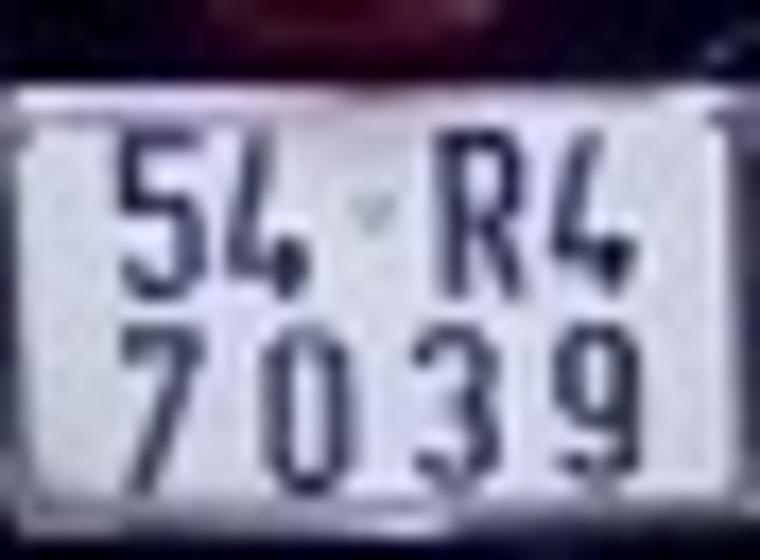0: (258, 324, 353, 496)
3: (407, 328, 516, 500)
4: (543, 123, 638, 298), (228, 133, 309, 306)
5: (115, 126, 204, 300)
7: (119, 317, 197, 492)
9: (553, 323, 642, 487)
R: (425, 127, 520, 309)
